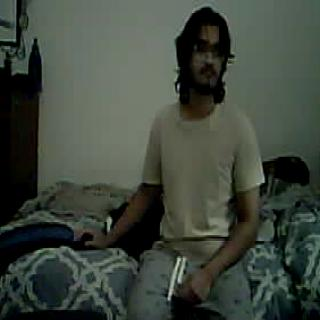Yellow T-Shirt: (144, 100, 261, 239)
